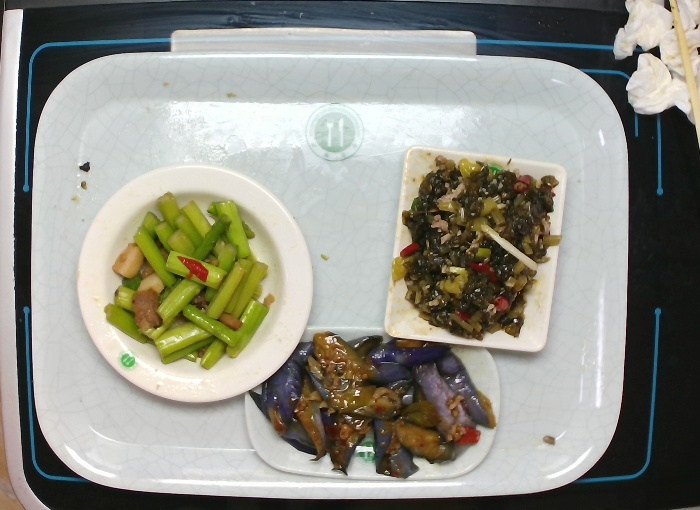WCQzf-Bai_Se_Si_Fang_Die: (374, 139, 573, 361)
WCQzf-Kuan_Bian_Yuan_Die: (69, 158, 319, 408)
WCQzf-Tuo_Yuan_Pan: (240, 323, 505, 485)
